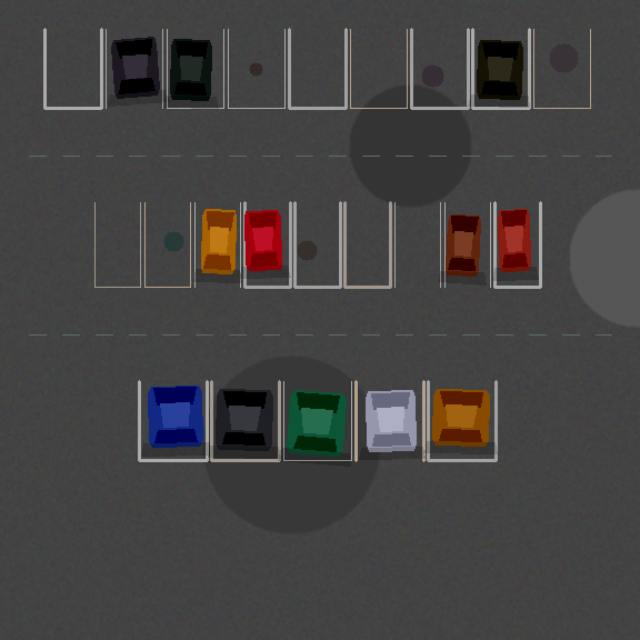space-empty: (44, 29, 101, 108), (289, 29, 346, 108), (350, 29, 407, 108), (411, 29, 468, 108), (533, 29, 590, 108), (228, 29, 284, 108), (94, 202, 140, 287), (144, 202, 190, 287), (294, 202, 340, 287), (344, 202, 390, 287), (394, 202, 440, 287)
space-occupied: (139, 381, 207, 460), (211, 381, 279, 460), (283, 381, 351, 460), (428, 381, 496, 460), (356, 381, 423, 460), (472, 29, 529, 108), (106, 29, 162, 108), (167, 29, 223, 108), (194, 202, 240, 287), (244, 202, 290, 287), (444, 202, 490, 287), (494, 202, 540, 287)
